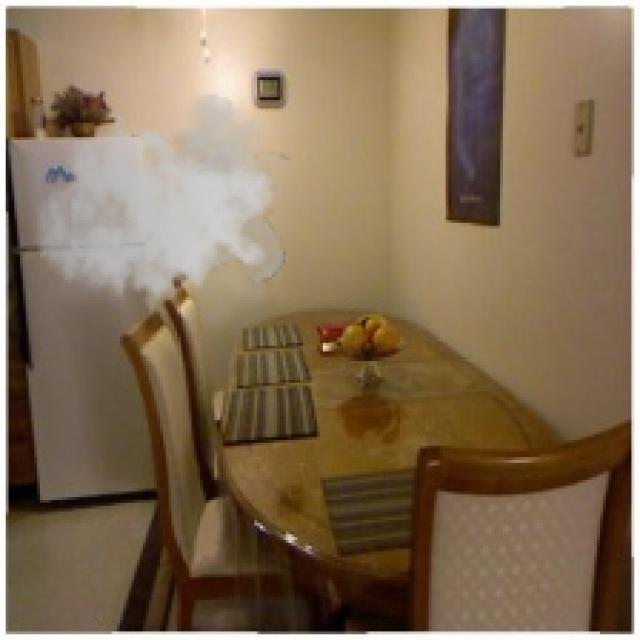smoke: (35, 94, 292, 323)
